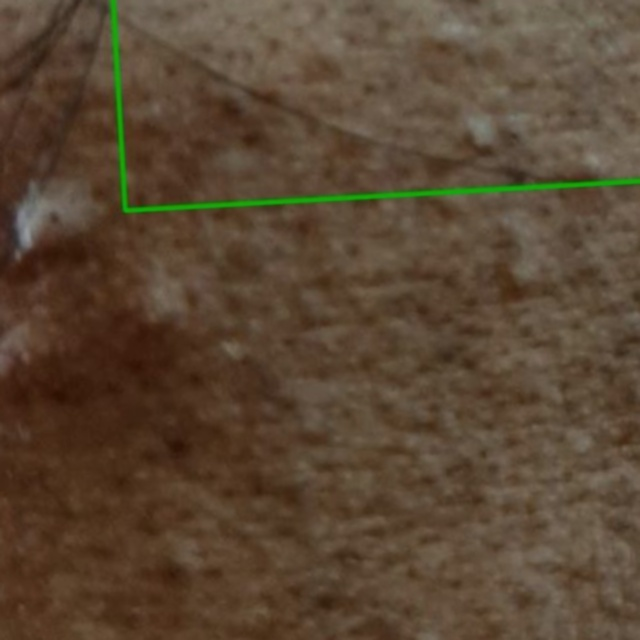Atopic Dermatitis: (113, 0, 639, 210)
